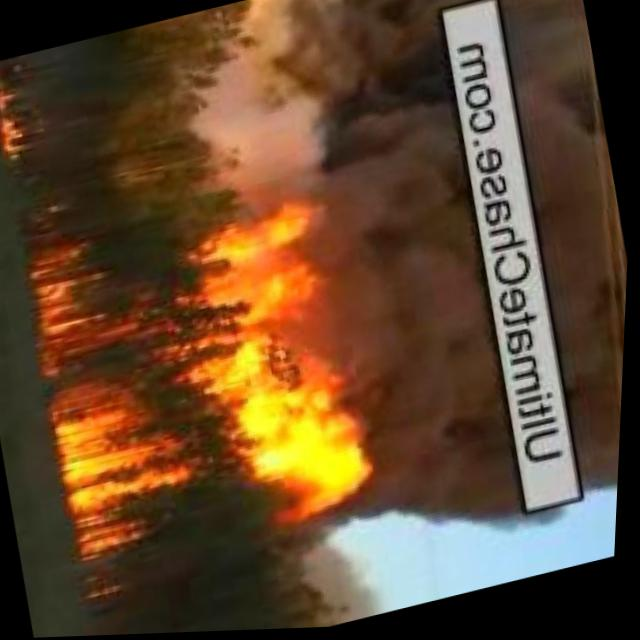Fire: (14, 190, 391, 579), (0, 76, 40, 160)
